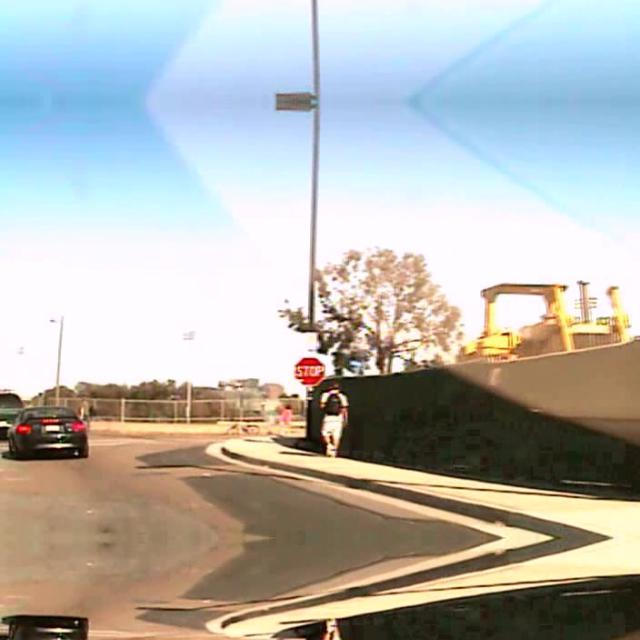stop: (293, 356, 325, 384)
